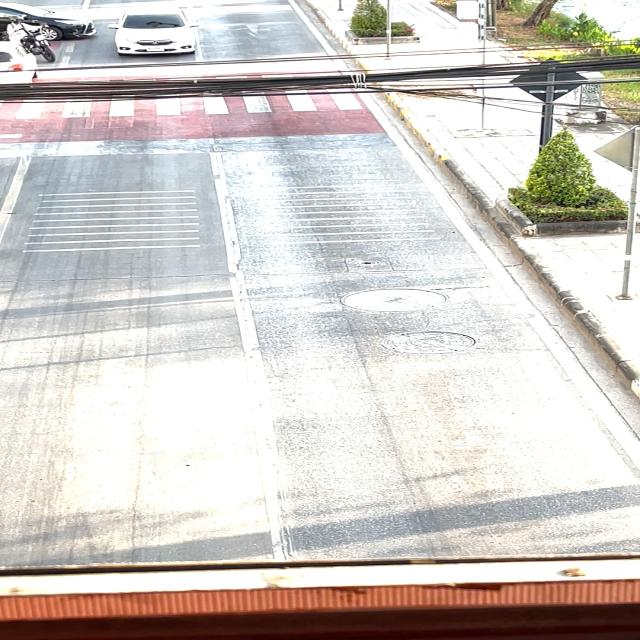car: (94, 5, 232, 59)
